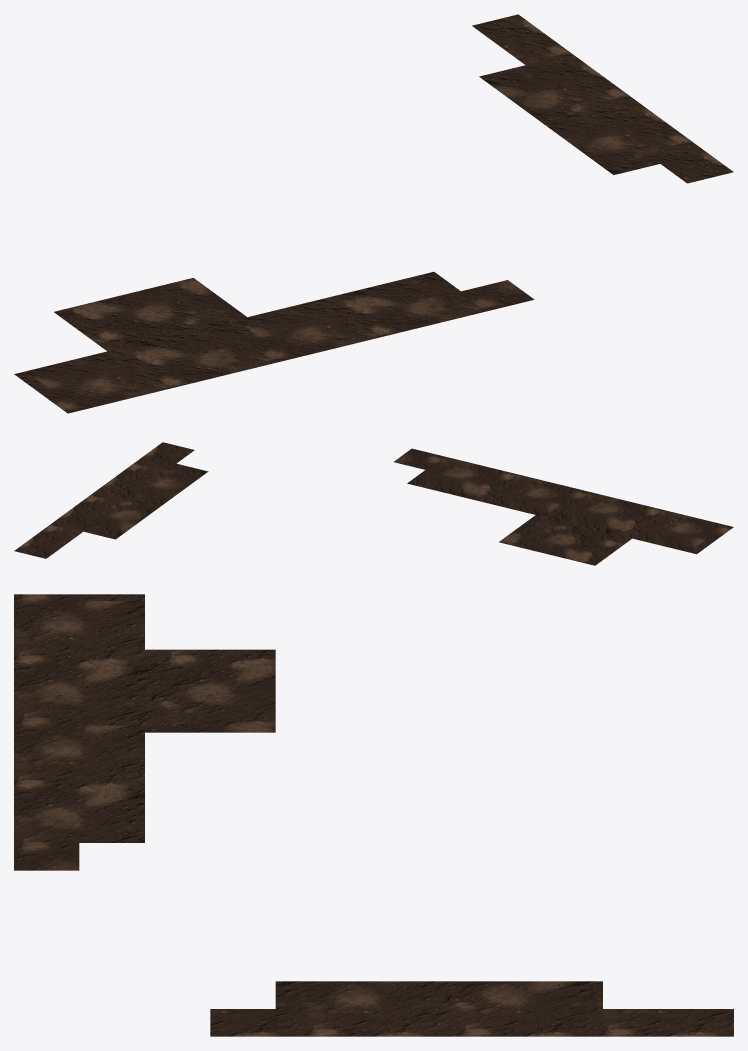
File: floor_1_-9.glb
The picture shows the model from 3 angles, top to bottom: view 1: azimuth 30°, elevation 25°; view 2: azimuth 150°, elevation 25°; view 3: azimuth 270°, elevation 25°; orthographic projection. The views are drawn at different scales.
Parts seen in each view (by area): view 1: floor_1_-9; view 2: floor_1_-9; view 3: floor_1_-9.
Boxes of the visible parts, left/top/right/bottom form: floor_1_-9: left=14, top=14, right=733, bottom=413; floor_1_-9: left=14, top=442, right=733, bottom=565; floor_1_-9: left=14, top=594, right=733, bottom=1036.
Bounding box in the file's own units: 64 × 0 × 44.
Materials: 1 (1 with a texture image).
